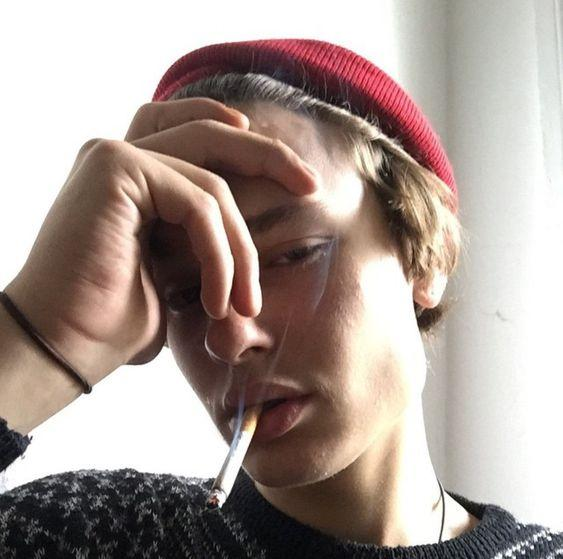cigarette: (206, 403, 265, 510)
